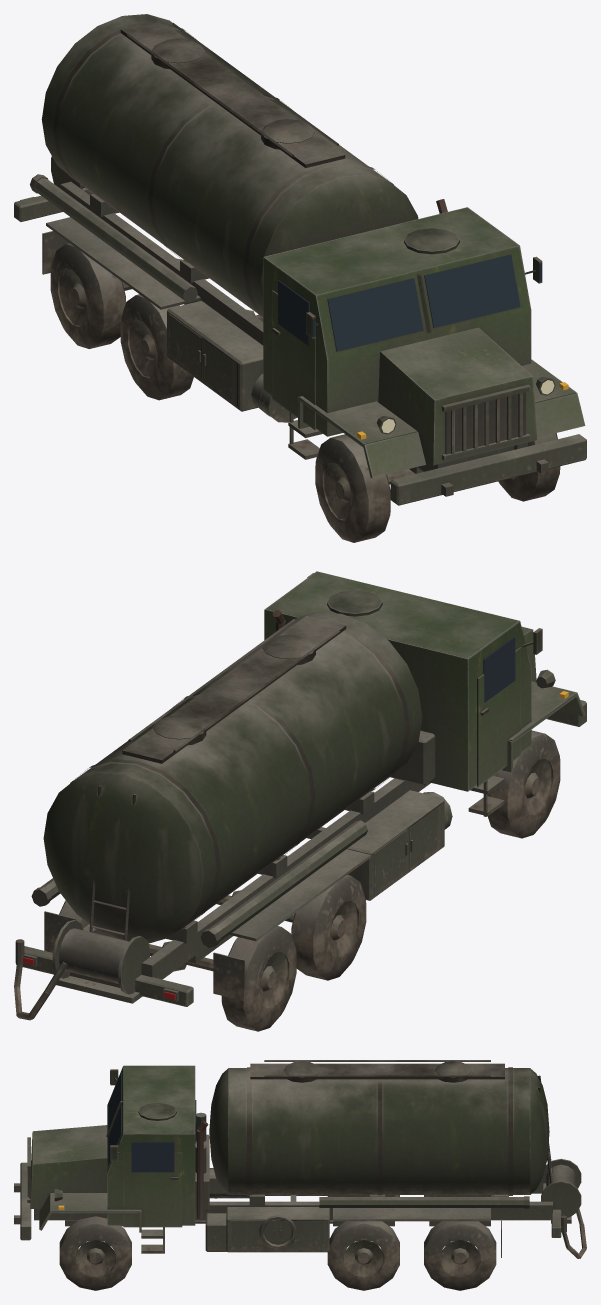
File: Weathered_Tanker.fbx
The picture shows the model from 3 angles, top to bottom: view 1: azimuth 30°, elevation 25°; view 2: azimuth 150°, elevation 25°; view 3: azimuth 270°, elevation 25°; orthographic projection. The views are drawn at different scales.
Visible parts, largest first — view 1: Enemy_Tanker_Mesh; view 2: Enemy_Tanker_Mesh; view 3: Enemy_Tanker_Mesh.
Boxes of the visible parts, x1,y1,x2,y2 form: Enemy_Tanker_Mesh: (14,14,586,542); Enemy_Tanker_Mesh: (14,571,586,1031); Enemy_Tanker_Mesh: (14,1060,586,1290).
Size of the model in its own units: 2.66 by 3.09 by 8.33.
